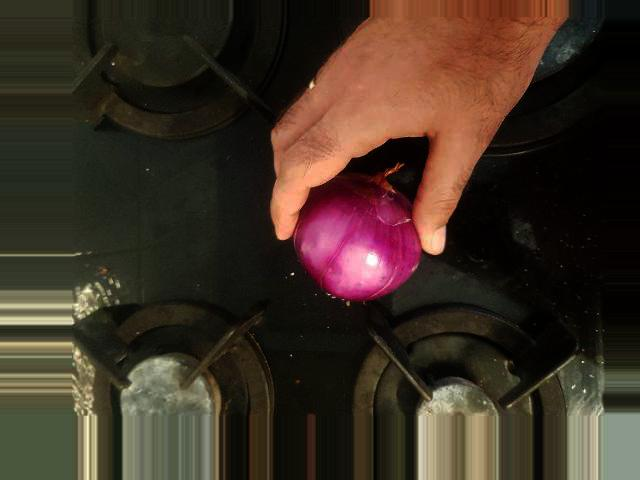onion: (192, 240, 308, 367)
